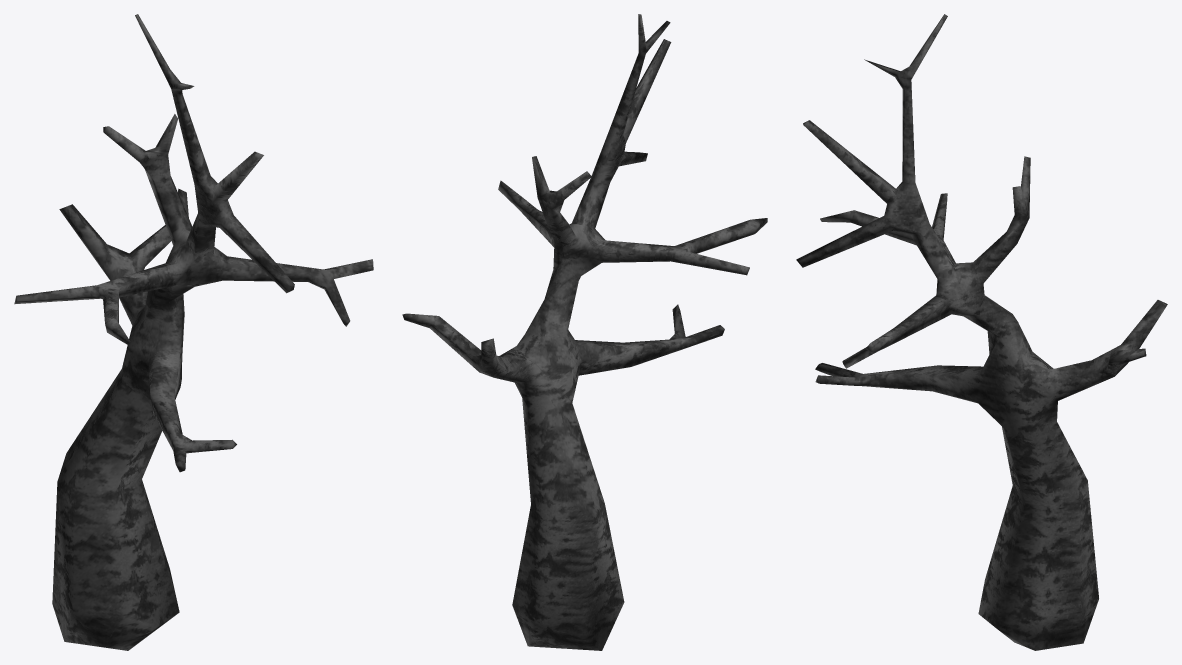
Rendered from Tree 2.fbx.
3 renders of one model, left to right at view 1: azimuth 30°, elevation 25°; view 2: azimuth 150°, elevation 25°; view 3: azimuth 270°, elevation 25°, orthographic. The views are drawn at different scales.
Parts seen in each view (by area): view 1: Vert.002; view 2: Vert.002; view 3: Vert.002.
Part boxes in pixels (<box>): Vert.002: <box>14,14,373,650</box>; Vert.002: <box>402,14,767,650</box>; Vert.002: <box>796,14,1167,650</box>.
Bounding box in the file's own units: 204 × 410 × 225.
